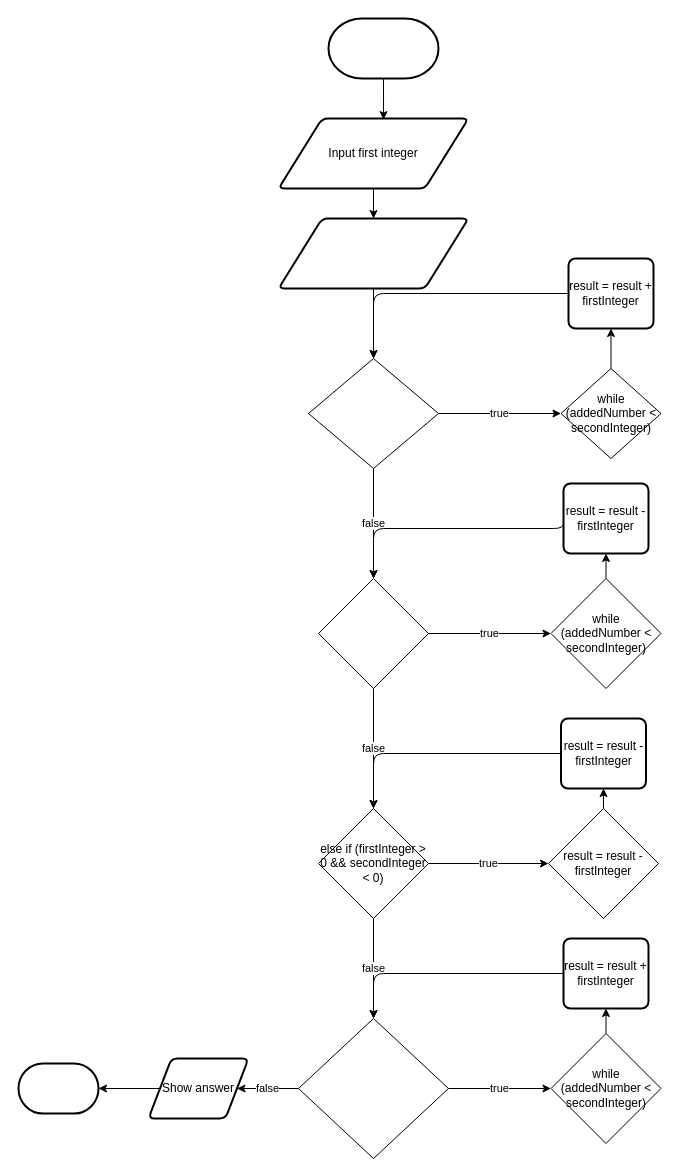
The diagram is 678 pixels wide and 1176 high, and some of its shapes have lost their labels. The shapes that lost their labels are listed below. From the top down, each one's box as (x1, y1, x2, y2) in pixels, then its label:
(327, 17, 439, 79): Start
(277, 217, 469, 289): Input second integer
(308, 358, 438, 468): if (firstInteger > 0 && secondInteger > 0)
(318, 578, 428, 688): else if (firstInteger < 0 && secondInteger < 0)
(17, 1062, 99, 1114): Stop
(298, 1018, 448, 1158): else if (firstInteger < 0 && secondInteger > 0)
